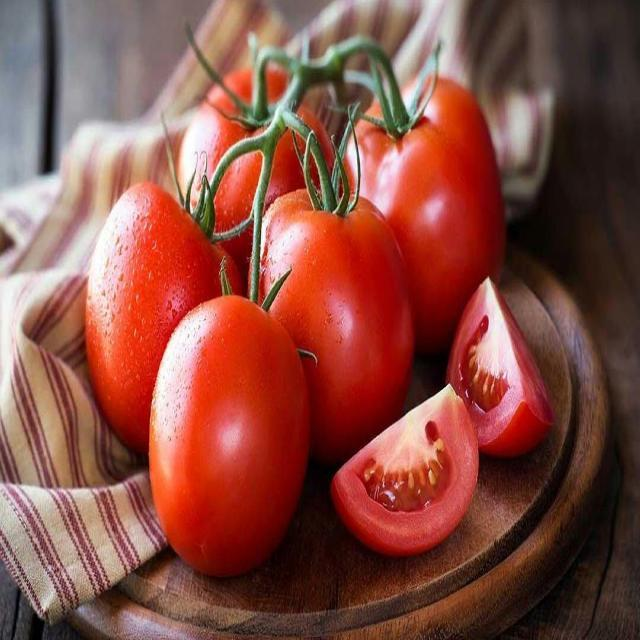kirmizi: (82, 20, 568, 576)
